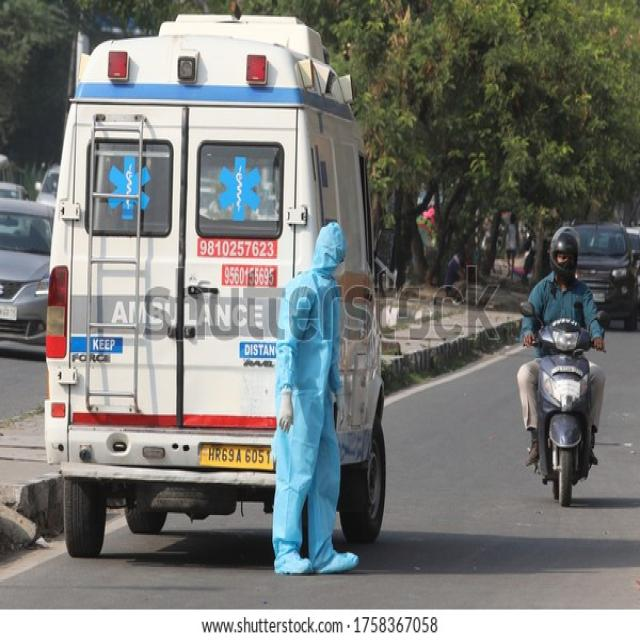ambulance: (44, 13, 388, 561)
